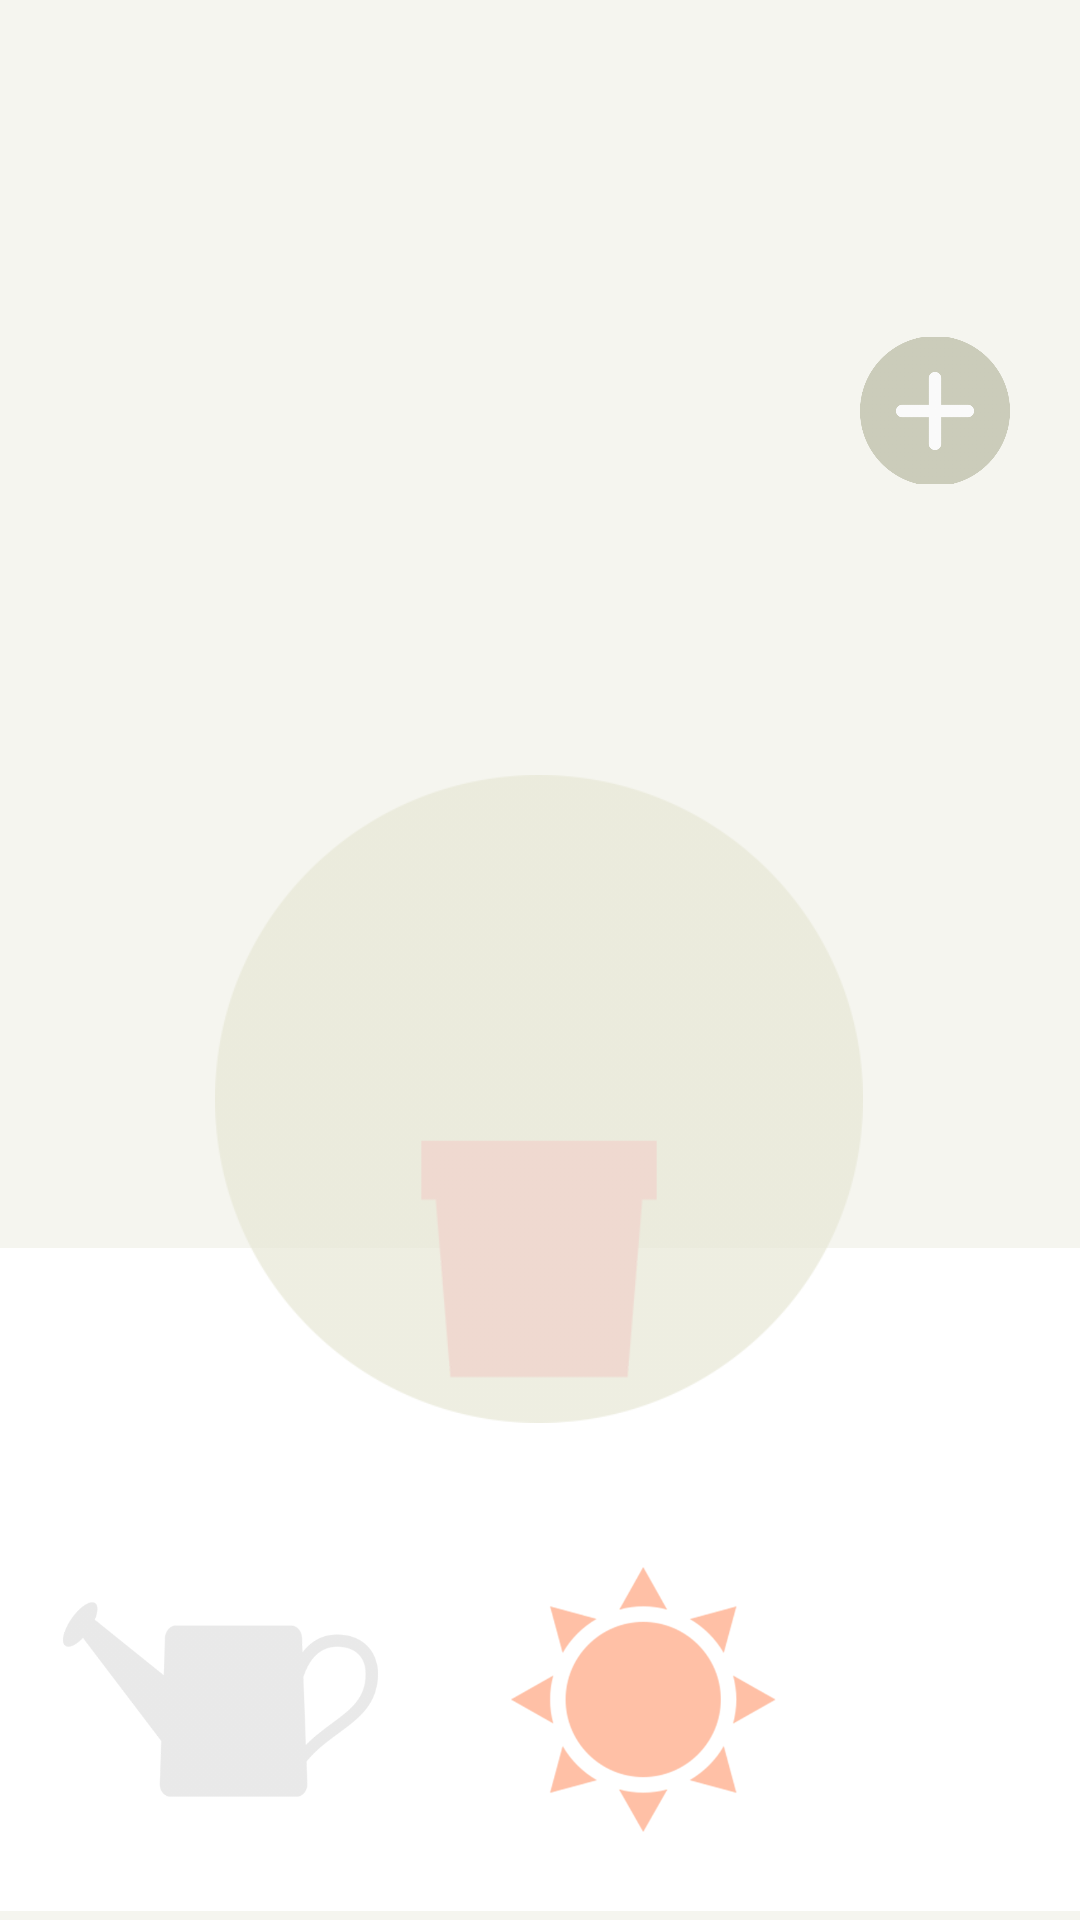

Named icons in this screenshot (1080px x 1920px) and their centers, [x,y]:
plus: [935,410]
sun: [643,1699]
